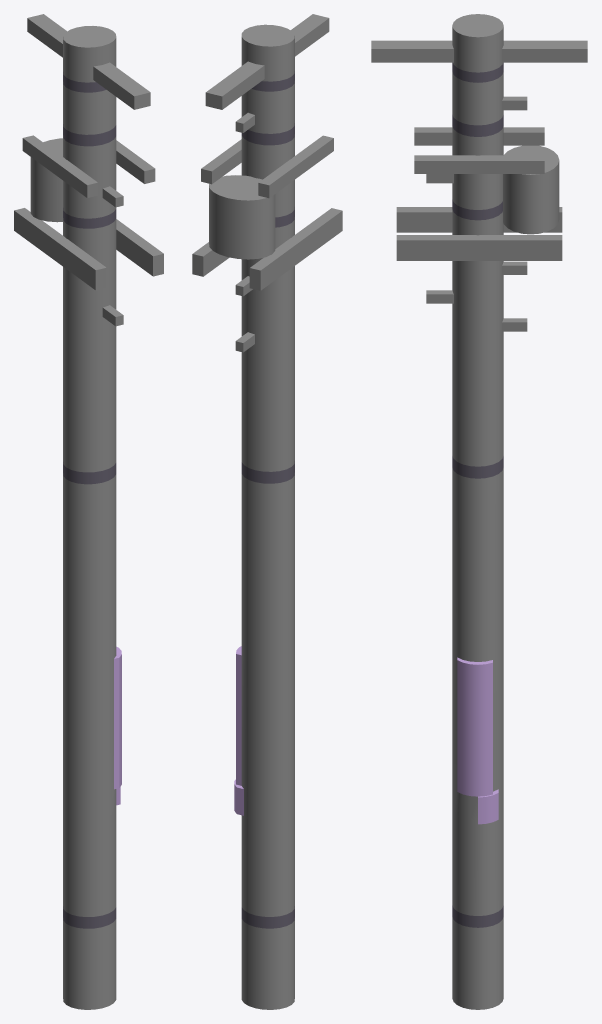
Rendered from UtilityPole.fbx.
3 views of the same model, side by side, from view 1: azimuth 30°, elevation 25°; view 2: azimuth 150°, elevation 25°; view 3: azimuth 270°, elevation 25° (orthographic).
Parts seen in each view (by area): view 1: UtilityPole; view 2: UtilityPole; view 3: UtilityPole.
Boxes of the visible parts, bbox=[...] form: UtilityPole: bbox=[14, 14, 163, 1009]; UtilityPole: bbox=[192, 14, 342, 1009]; UtilityPole: bbox=[371, 14, 587, 1009].
Size of the model in its own units: 0.3676 by 4.96 by 1.
